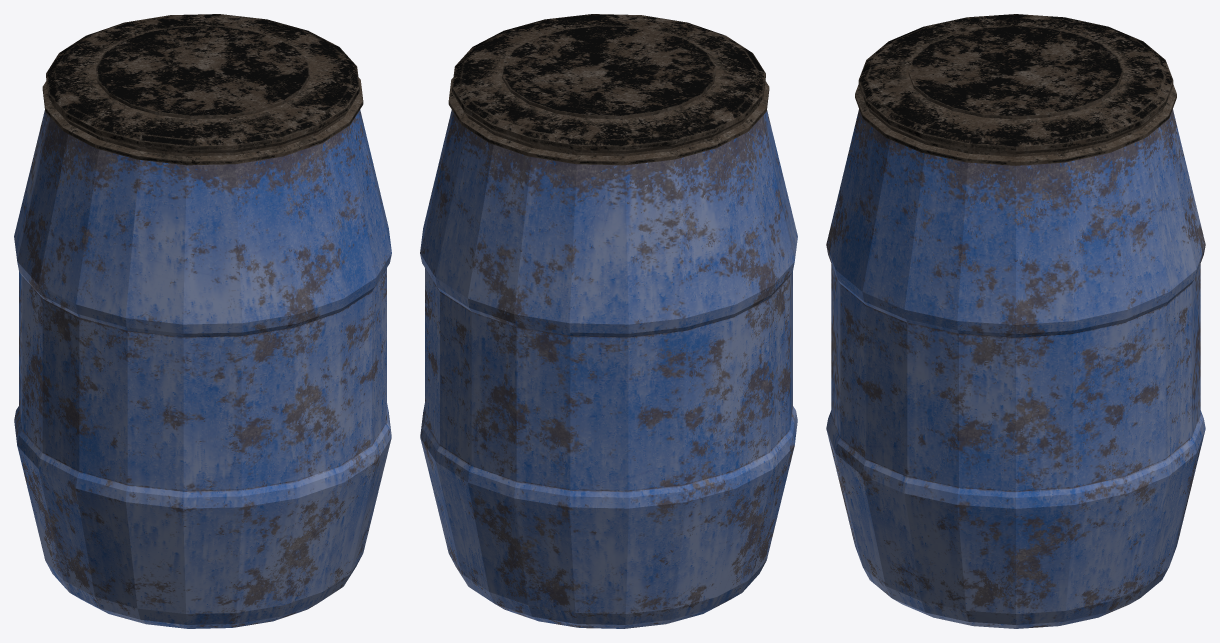
File: Blue Drum.fbx
3 views of the same model, side by side, from view 1: azimuth 30°, elevation 25°; view 2: azimuth 150°, elevation 25°; view 3: azimuth 270°, elevation 25° (orthographic).
Visible parts, largest first — view 1: transform1; view 2: transform1; view 3: transform1.
Part boxes in pixels (left/top/right/bottom): transform1: left=14, top=14, right=391, bottom=628; transform1: left=420, top=14, right=797, bottom=628; transform1: left=826, top=14, right=1205, bottom=628.
Size of the model in its own units: 0.0269 by 0.0393 by 0.0269.
1 material, 1 textured.
